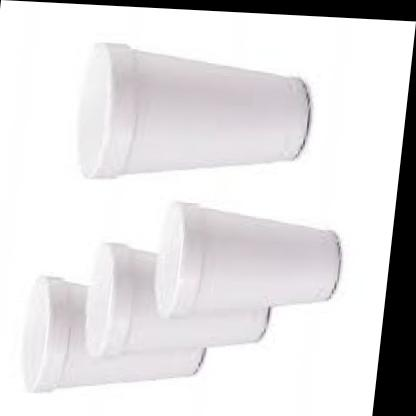Plastic: (0, 5, 416, 410)
